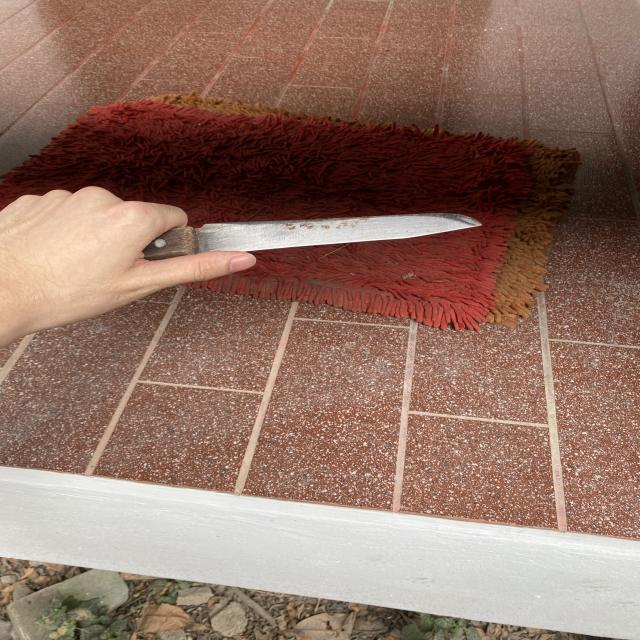faca: (11, 177, 487, 315)
